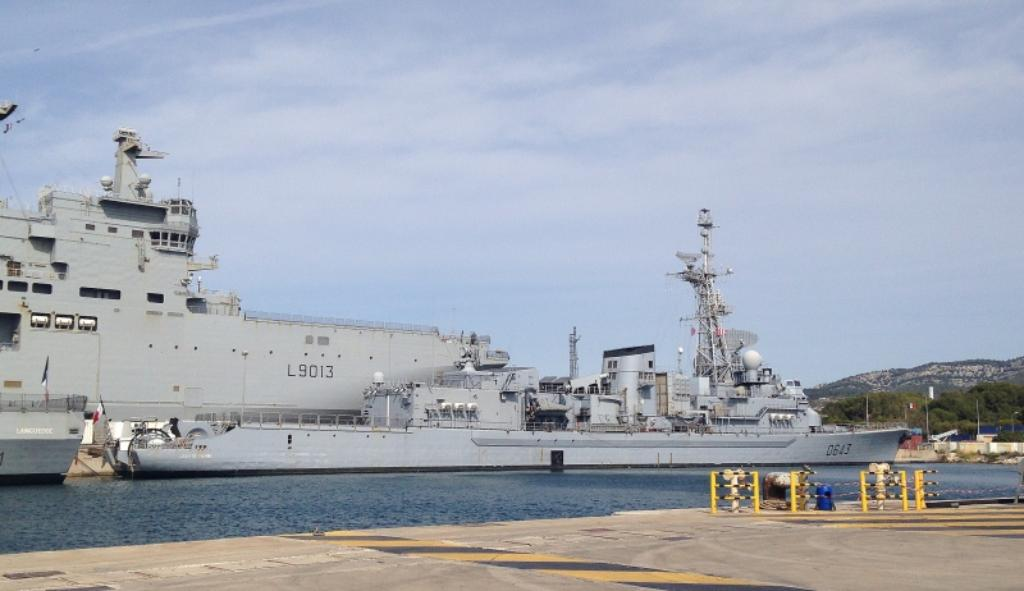Warship: (110, 201, 912, 481), (0, 105, 542, 483)
